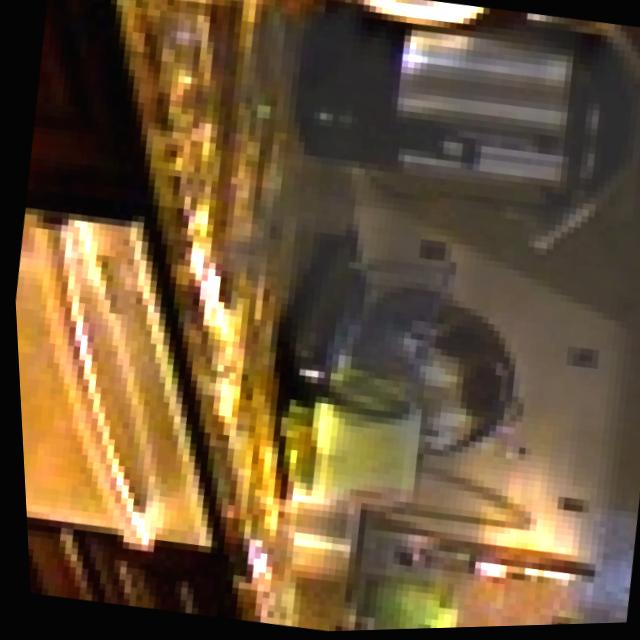smoke: (90, 0, 640, 638)
